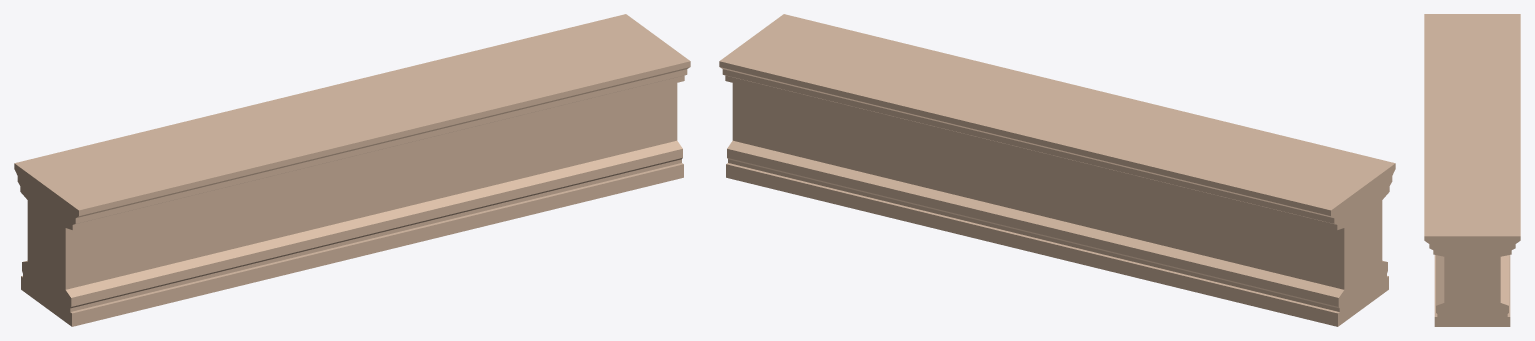
File: BC_Frame_C_01.fbx
3 views of the same model, side by side, from view 1: azimuth 30°, elevation 25°; view 2: azimuth 150°, elevation 25°; view 3: azimuth 270°, elevation 25° (orthographic). The views are drawn at different scales.
Parts seen in each view (by area): view 1: BC_Frame_C_01; view 2: BC_Frame_C_01; view 3: BC_Frame_C_01.
Boxes of the visible parts, <box> form: BC_Frame_C_01: <box>14,14,690,326</box>; BC_Frame_C_01: <box>719,14,1395,326</box>; BC_Frame_C_01: <box>1424,14,1520,326</box>.
Bounding box in the file's own units: 800 × 152 × 146.
